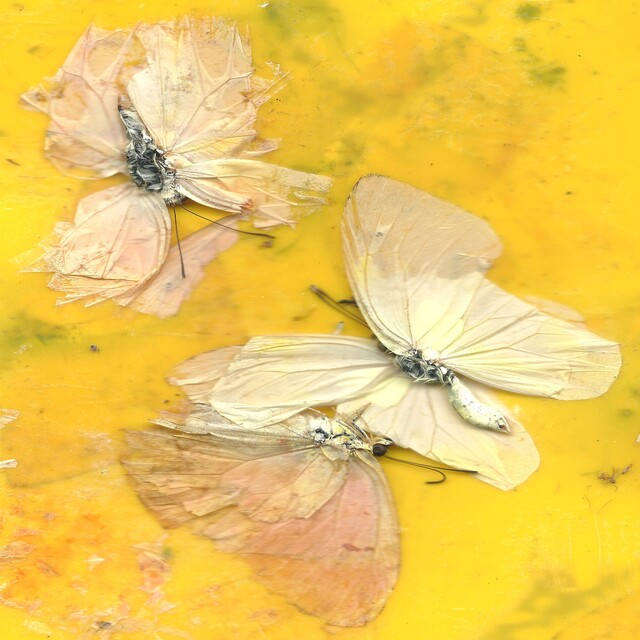Lepidoptera: (166, 173, 623, 491), (17, 12, 332, 320), (121, 405, 476, 628)
